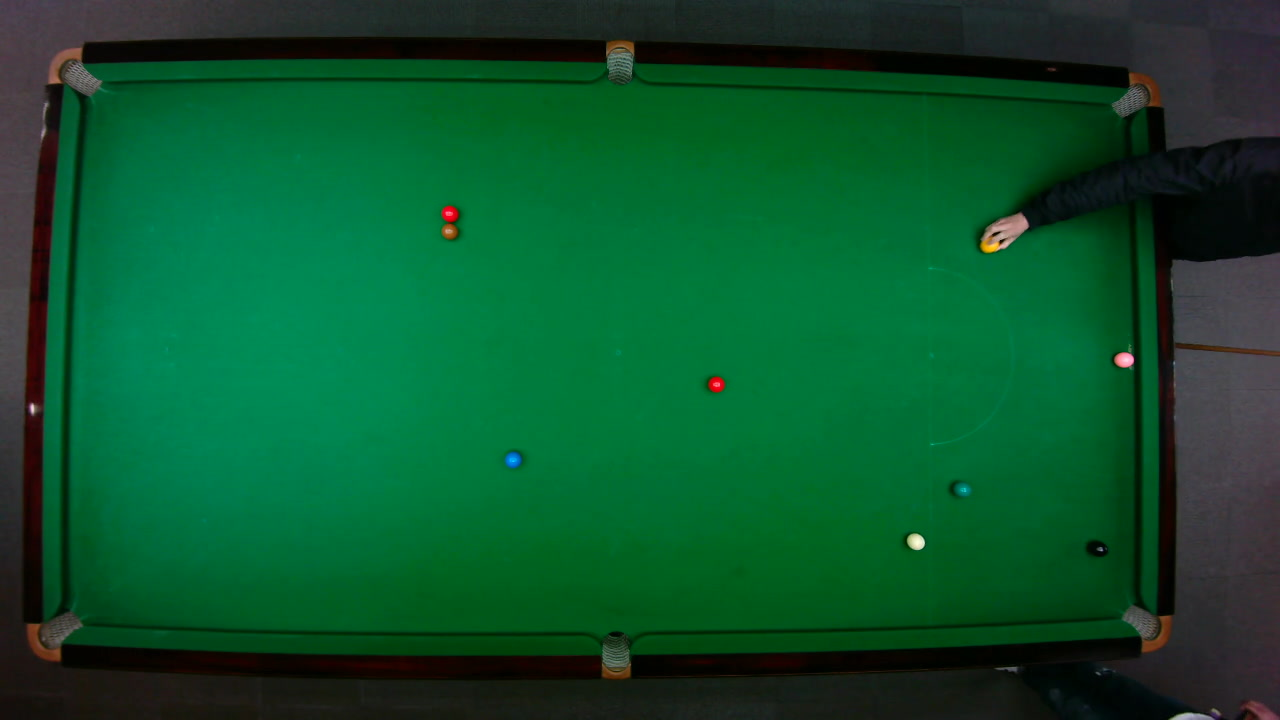bag: (25, 609, 83, 662), (46, 46, 102, 96), (1119, 603, 1172, 652), (1108, 71, 1161, 118), (600, 629, 629, 680), (605, 38, 633, 85)
black: (1087, 539, 1108, 557)
blue: (504, 450, 522, 468)
brown: (440, 223, 458, 240)
green: (950, 480, 972, 497)
pink: (1112, 350, 1135, 368)
red: (706, 374, 725, 393), (439, 204, 459, 222)
white: (904, 531, 925, 550)
yellow: (978, 235, 1001, 254)
zone: (927, 265, 1014, 445)
